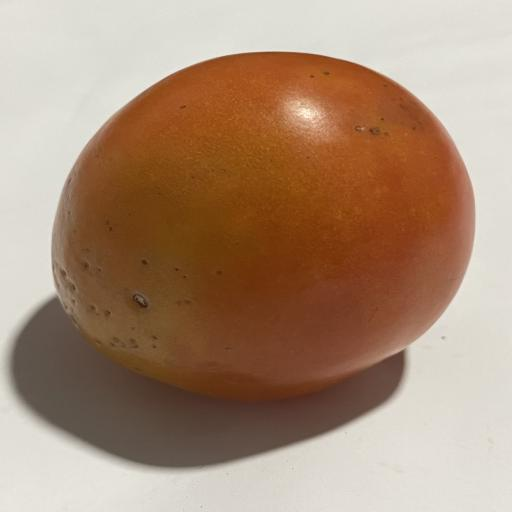unripe: (52, 52, 474, 400)
